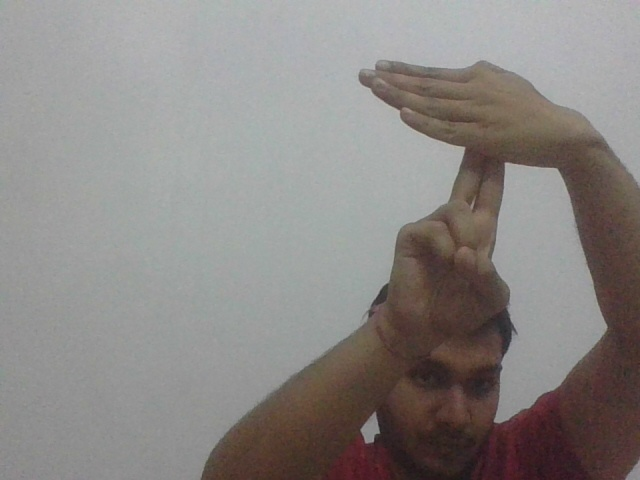N: (358, 53, 555, 214)
